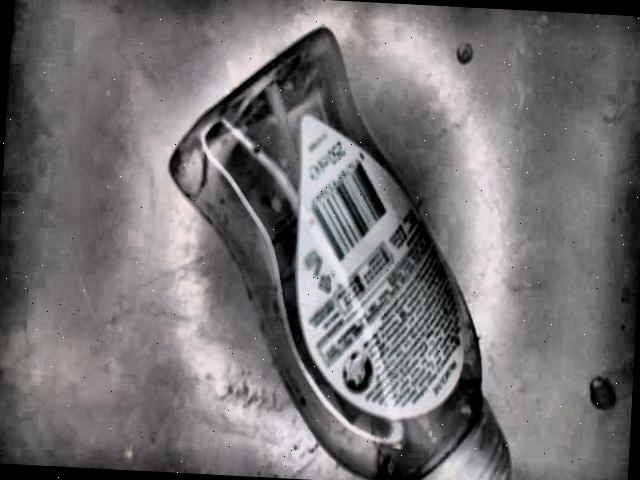Plastic: (170, 27, 513, 480)
